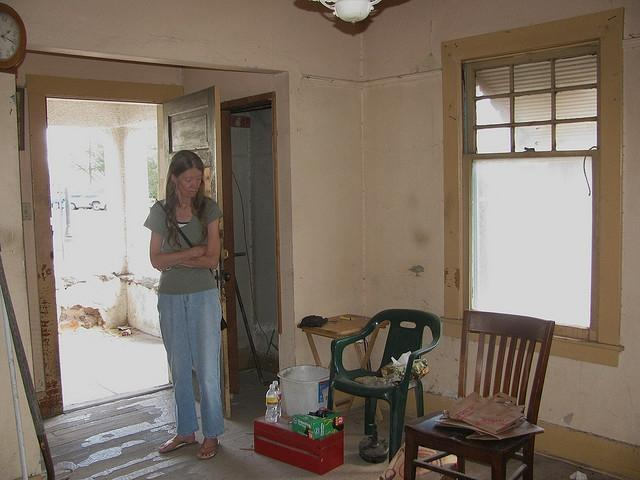car: (70, 194, 104, 210)
